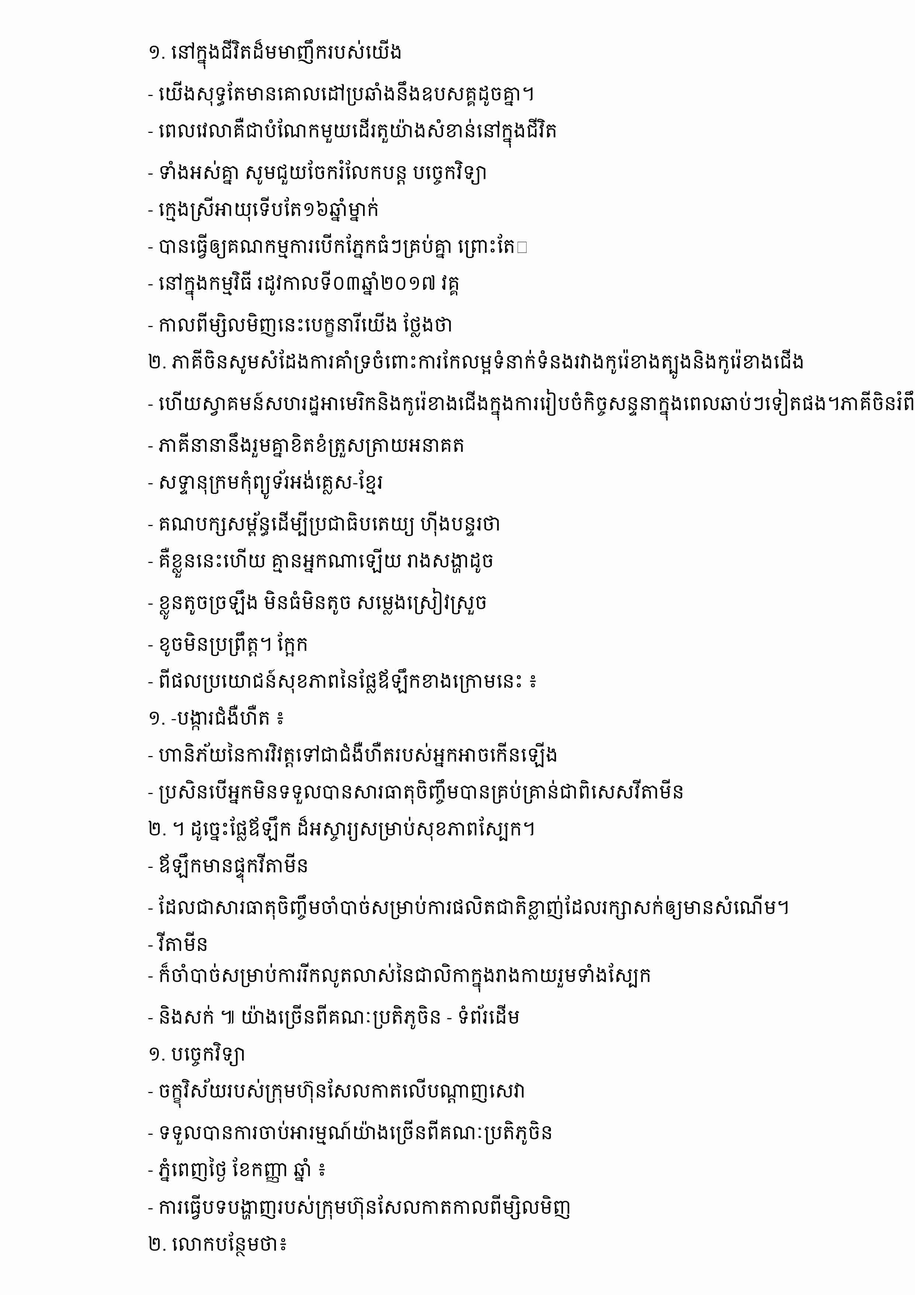text: (148, 389, 915, 421), (148, 349, 809, 379), (148, 894, 795, 920), (148, 962, 656, 993), (148, 779, 689, 804), (148, 117, 562, 148), (148, 1078, 531, 1108), (148, 1194, 576, 1220), (148, 588, 492, 620), (148, 547, 499, 578), (148, 742, 563, 767), (148, 668, 543, 694), (148, 1120, 558, 1145), (148, 233, 534, 259), (148, 1004, 525, 1030), (148, 816, 540, 841), (148, 81, 539, 106), (148, 270, 465, 300), (148, 511, 506, 536), (148, 160, 493, 185), (148, 432, 470, 458), (148, 39, 407, 69), (148, 312, 458, 337), (148, 469, 388, 499), (148, 196, 384, 222), (148, 853, 314, 883), (148, 1157, 332, 1183), (148, 631, 313, 657), (148, 705, 290, 731), (148, 1232, 293, 1257), (148, 1042, 251, 1066), (148, 931, 214, 951)
